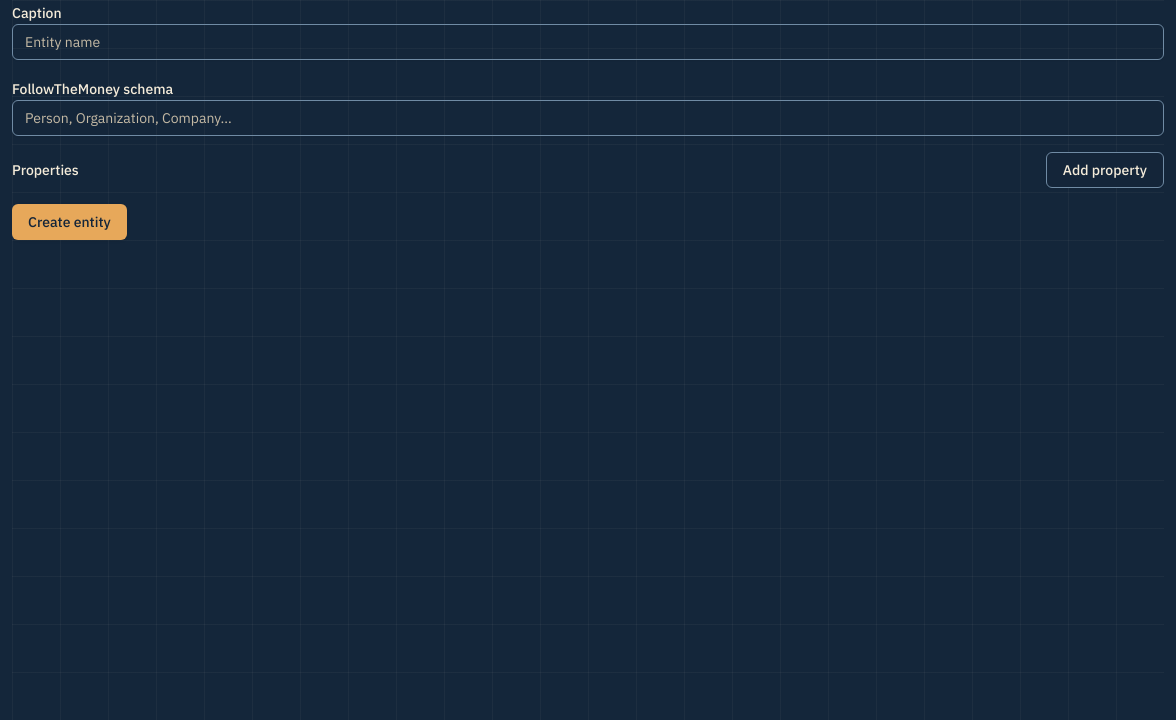
Test: EntityForm › removes a property row via its Remove button
What coordinates should you click on to do the following:
click the button "Add property"
I would click on:
 (1105, 170)
Its box is x1=1046 y1=152 x2=1164 y2=188.
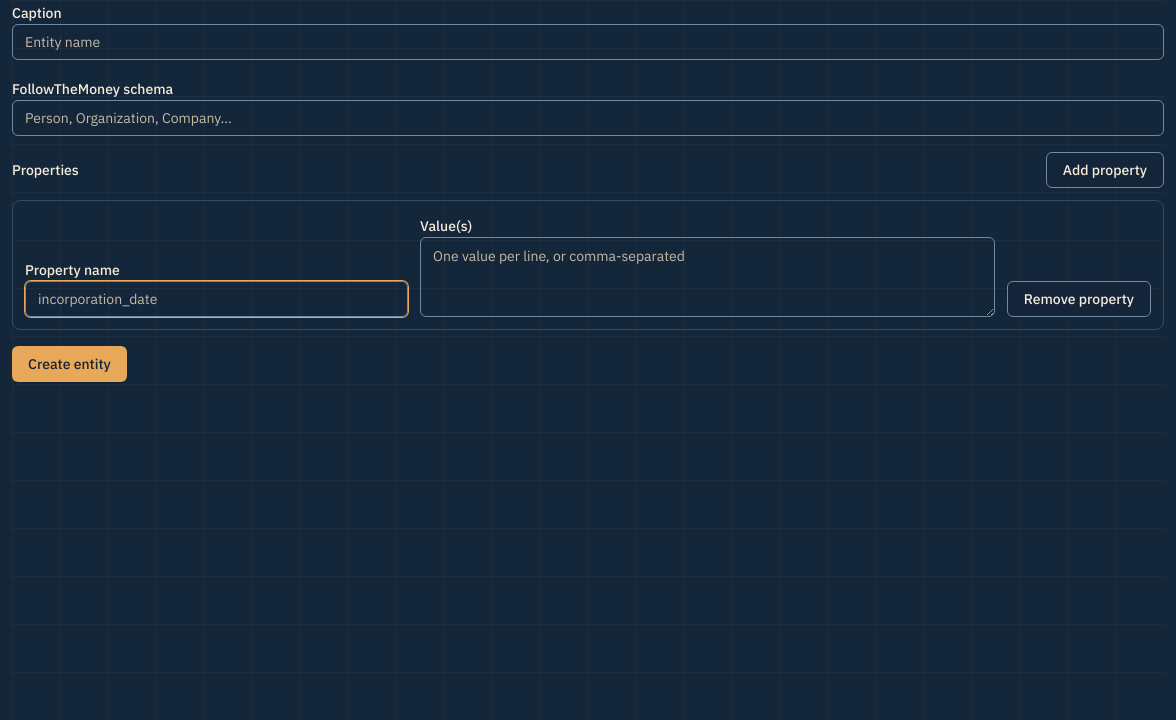
Now the field with placeholder "incorporation_date" is shown, box x1=25 y1=281 x2=408 y2=317
What coordinates should you click on to do the following:
click the button with aria-label "Remove property 1"
I would click on:
 (1079, 299)
Its box is x1=1007 y1=281 x2=1151 y2=317.
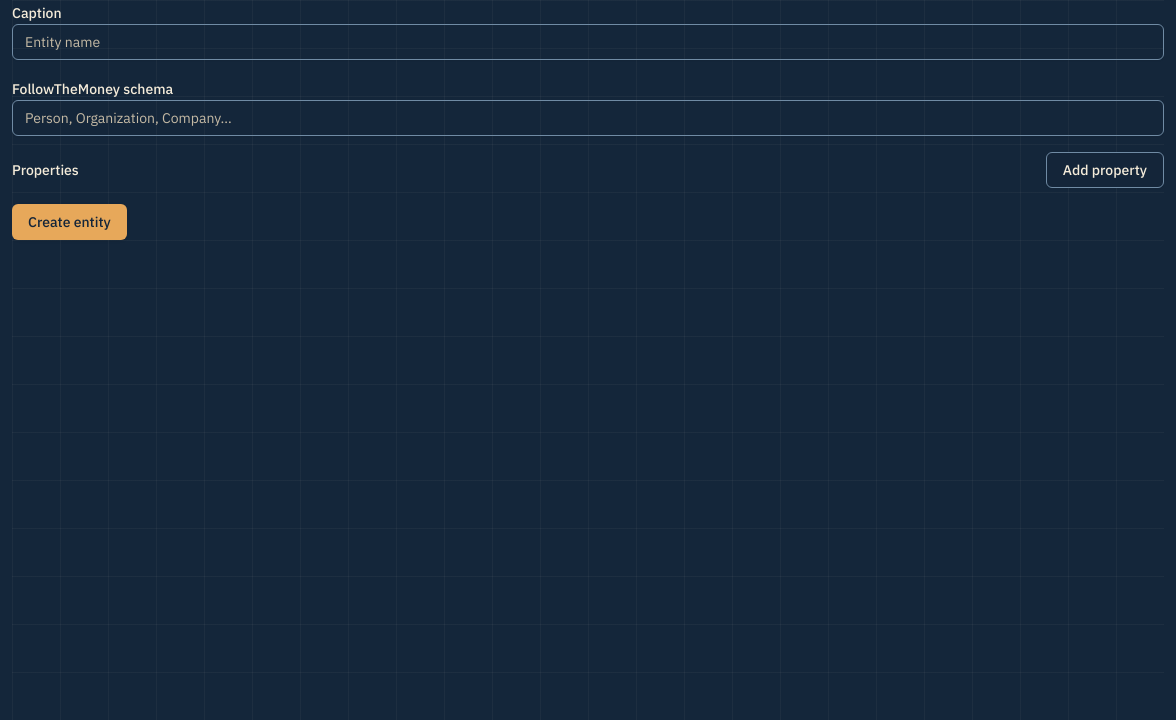
Now the field with placeholder "incorporation_date" is gone
